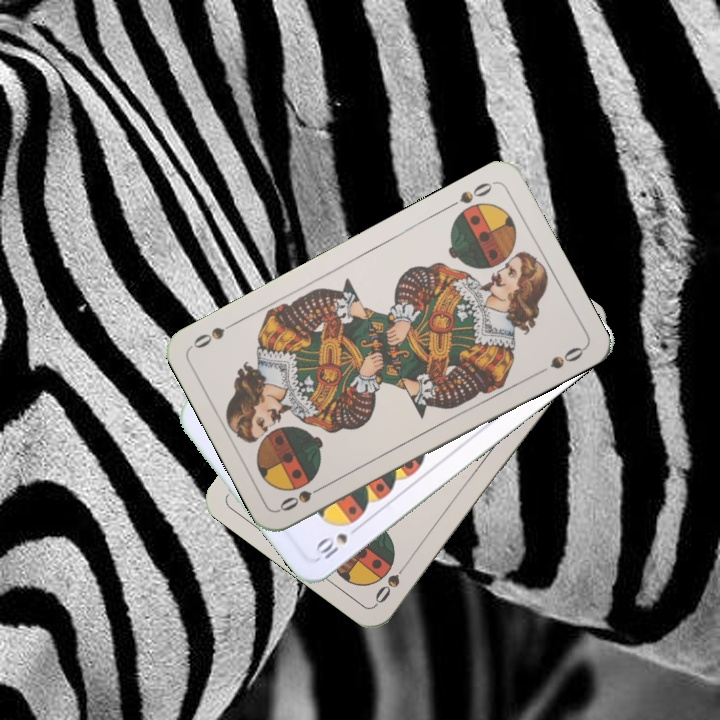S10: (311, 521, 364, 562)
SO: (370, 555, 413, 607), (275, 479, 331, 514), (443, 177, 497, 212)
